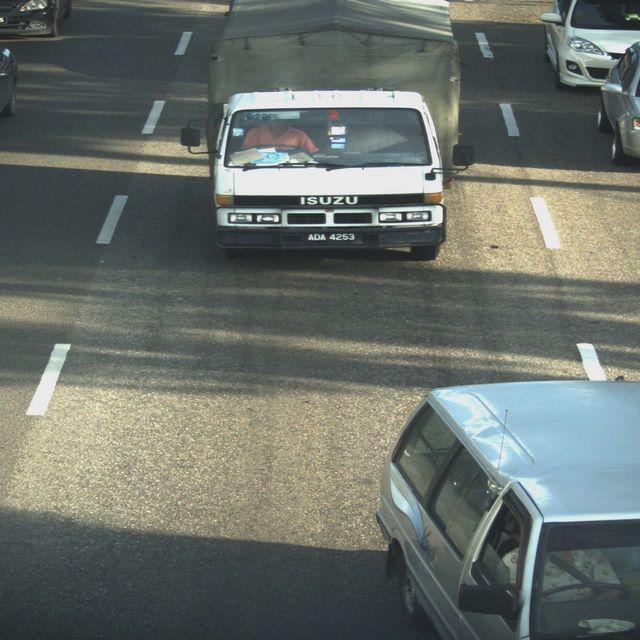License_Plate: (300, 223, 367, 248)
lorry: (192, 2, 472, 262)
